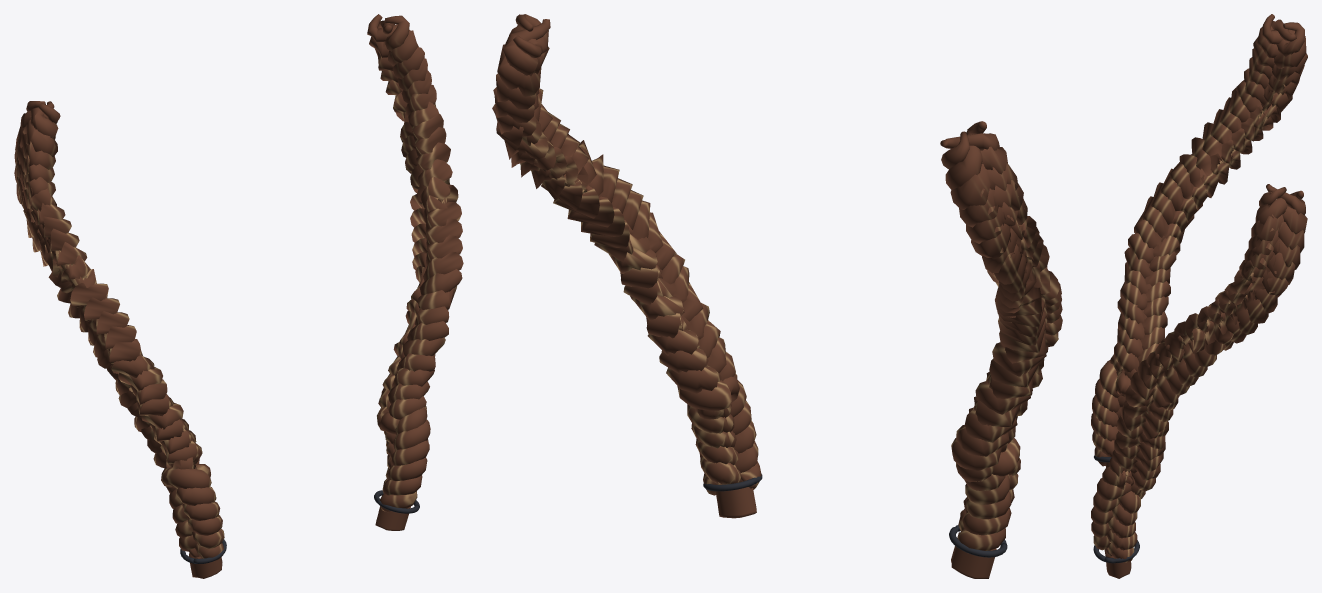
The model's file is Highlights-8f89c6f6601b252-hair.glb.
The picture shows the model from 3 angles, left to right: view 1: azimuth 30°, elevation 25°; view 2: azimuth 150°, elevation 25°; view 3: azimuth 270°, elevation 25°; orthographic projection. The views are drawn at different scales.
Parts seen in each view (by area): view 1: 226 hairLengths / Hair / chestnut226, 226 hairLengths / Hair / ties226; view 2: 226 hairLengths / Hair / chestnut226, 226 hairLengths / Hair / ties226; view 3: 226 hairLengths / Hair / chestnut226, 226 hairLengths / Hair / ties226.
Part boxes in pixels (left/top/right/bottom): 226 hairLengths / Hair / chestnut226: left=14, top=14, right=463, bottom=578; 226 hairLengths / Hair / ties226: left=180, top=490, right=419, bottom=563; 226 hairLengths / Hair / chestnut226: left=492, top=14, right=1062, bottom=578; 226 hairLengths / Hair / ties226: left=703, top=474, right=1007, bottom=557; 226 hairLengths / Hair / chestnut226: left=1091, top=14, right=1307, bottom=578; 226 hairLengths / Hair / ties226: left=1093, top=455, right=1139, bottom=563.
Bounding box in the file's own units: 1.03 × 1.06 × 0.4842.
2 materials, 1 textured.
